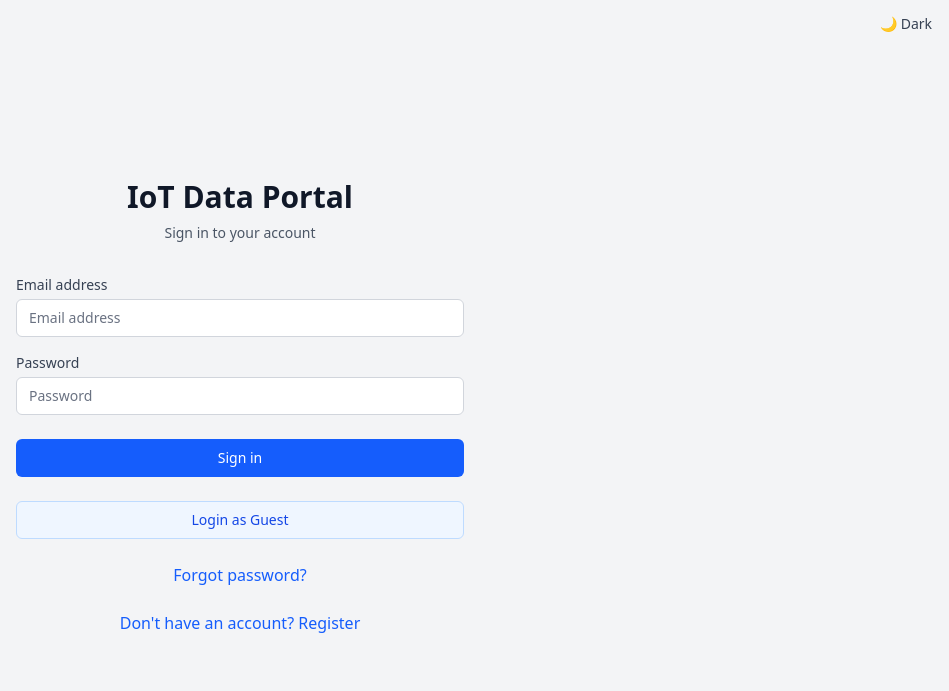
Test case: Auth pages › shows API error message on failed login
The image size is (949, 691).
Step 1. Type "user@example.com" into the field with placeholder "Email address" → point(240, 318), box [16, 299, 464, 337]
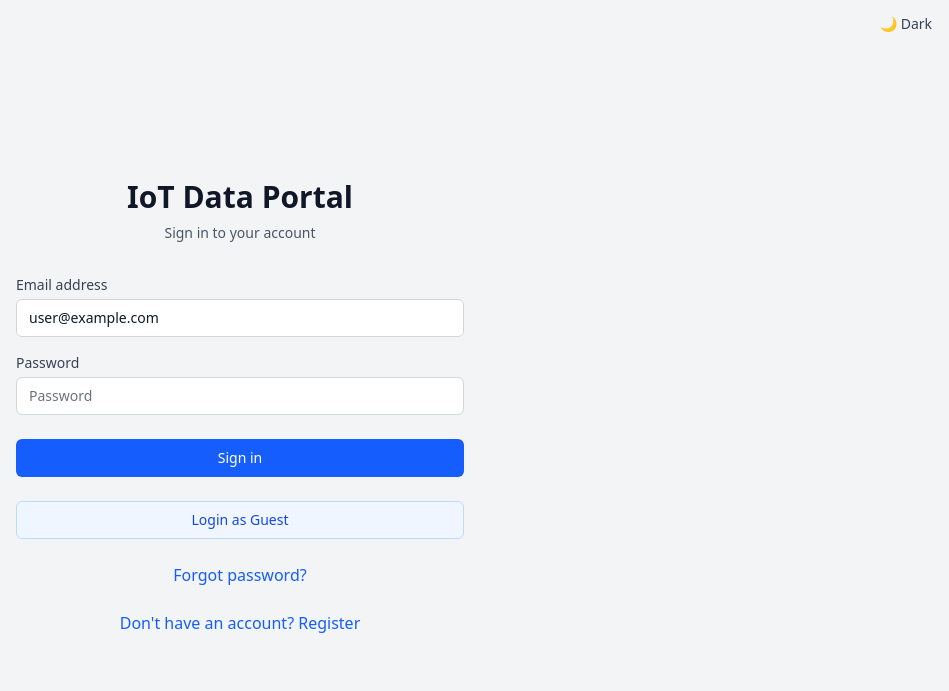
Step 2. Type "wrong" into the password field with placeholder "Password" → point(240, 396), box [16, 377, 464, 415]
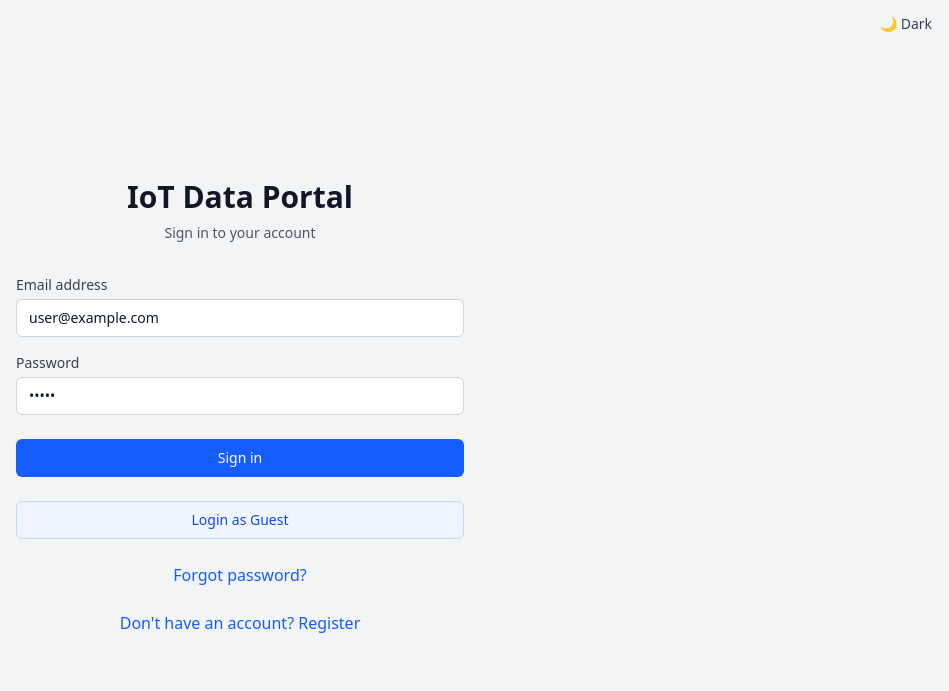
Step 3. Click the button "Sign in" → point(240, 458), box [16, 439, 464, 477]
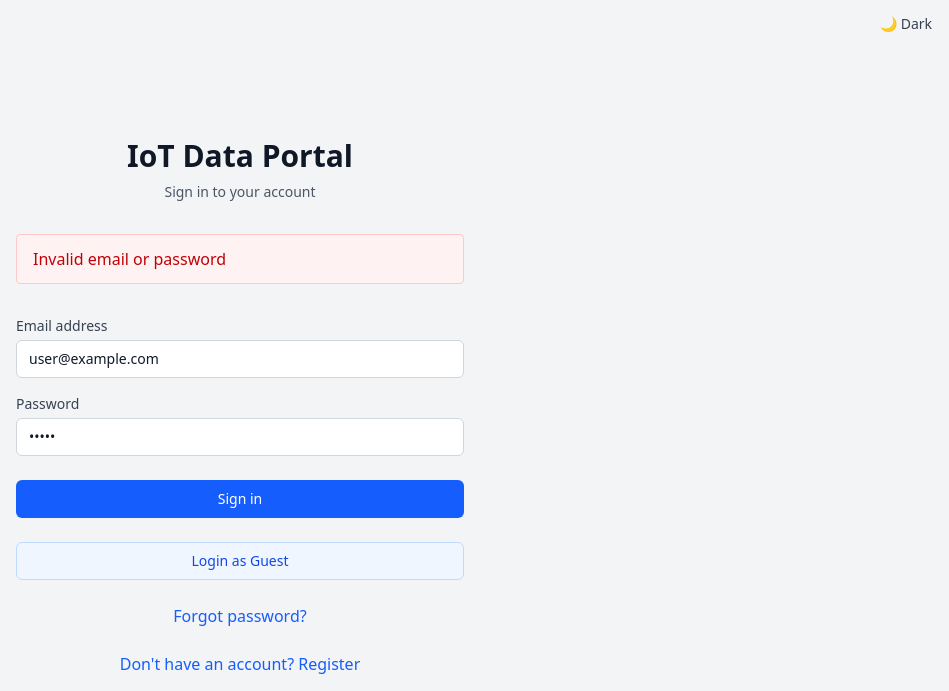
Check: the text "Invalid email or password" is shown, box [33, 248, 226, 270]
